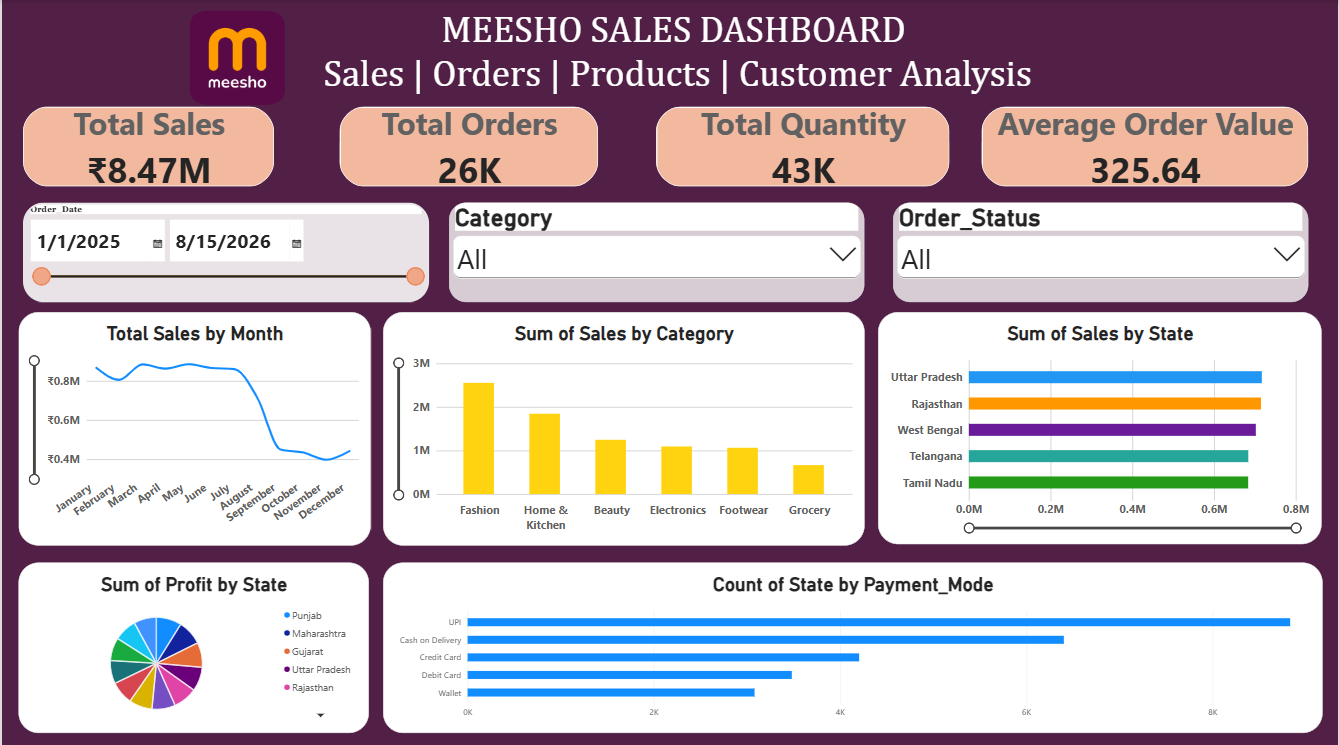

The dashboard page shown, as its layout file describes it:
{"tool":"powerbi","page":{"name":"Sales Dashboard","canvas":[1920,1080],"ordinal":0},"visuals":[{"type":"image","box":[256.7,15.9,163.5,136.3],"z":0},{"type":"cardVisual","fields":{"Data":["Table1_2.Total Sales"]},"box":[29.5,152.2,361.1,115.8],"z":1000},{"type":"textbox","box":[54.5,15.9,1823.9,136.3],"z":2000},{"type":"lineChart","fields":{"Category":["Table1_2.Order_Date.Variation.Date Hierarchy.Month"],"Y":["Table1_2.Total Sales"]},"box":[22.7,449.7,506.5,336.2],"z":3000},{"type":"cardVisual","fields":{"Data":["Table1_2.Total Quantity"]},"box":[940.3,152.2,422.5,115.8],"z":4000},{"type":"cardVisual","fields":{"Data":["Table1_2.Total Orders"]},"box":[486.1,152.2,372.5,115.8],"z":5000},{"type":"cardVisual","fields":{"Data":["Table1_2.A.O.V"]},"box":[1408.2,152.2,470.2,115.8],"z":6000},{"type":"slicer","fields":{"Values":["Table1_2.Order_Date"]},"box":[29.5,290.7,583.7,143.1],"z":7000},{"type":"slicer","fields":{"Values":["Table1_2.Category"]},"box":[642.8,290.7,597.4,143.1],"z":8000},{"type":"slicer","fields":{"Values":["Table1_2.Order_Status"]},"box":[1281,290.7,597.4,143.1],"z":9000},{"type":"clusteredColumnChart","fields":{"Category":["Table1_2.Category"],"Y":["Sum(Table1_2.Sales)"]},"box":[547.4,449.7,692.7,336.2],"z":10000},{"type":"clusteredBarChart","fields":{"Category":["Table1_2.State"],"Y":["Sum(Table1_2.Sales)"]},"box":[1260.6,449.7,638.2,333.9],"z":11000},{"type":"pieChart","fields":{"Category":["Table1_2.State"],"Y":["Sum(Table1_2.Profit)"]},"box":[22.7,808.6,504.2,245.3],"z":12000},{"type":"barChart","fields":{"Category":["Table1_2.Payment_Mode"],"Y":["CountNonNull(Table1_2.State)"]},"box":[547.4,808.6,1351.4,245.3],"z":13000}]}

Visuals, with their boxes in screenshot pixels (x1, y1, x2, y2), scaled from the page's 1920x1080 canvas onto the 1339x745 screenshot:
image: 179/11/293/105
cardVisual - Table1_2.Total Sales: 21/105/272/185
textbox: 38/11/1310/105
lineChart - Table1_2.Order_Date.Variation.Date Hierarchy.Month x Table1_2.Total Sales: 16/310/369/542
cardVisual - Table1_2.Total Quantity: 656/105/950/185
cardVisual - Table1_2.Total Orders: 339/105/599/185
cardVisual - Table1_2.A.O.V: 982/105/1310/185
slicer - Table1_2.Order_Date: 21/201/428/299
slicer - Table1_2.Category: 448/201/865/299
slicer - Table1_2.Order_Status: 893/201/1310/299
clusteredColumnChart - Table1_2.Category x Sum(Table1_2.Sales): 382/310/865/542
clusteredBarChart - Table1_2.State x Sum(Table1_2.Sales): 879/310/1324/541
pieChart - Table1_2.State x Sum(Table1_2.Profit): 16/558/367/727
barChart - Table1_2.Payment_Mode x CountNonNull(Table1_2.State): 382/558/1324/727
